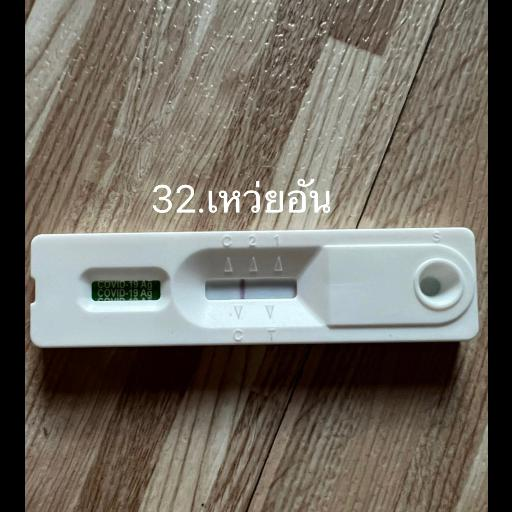Neg: (29, 233, 477, 343)
